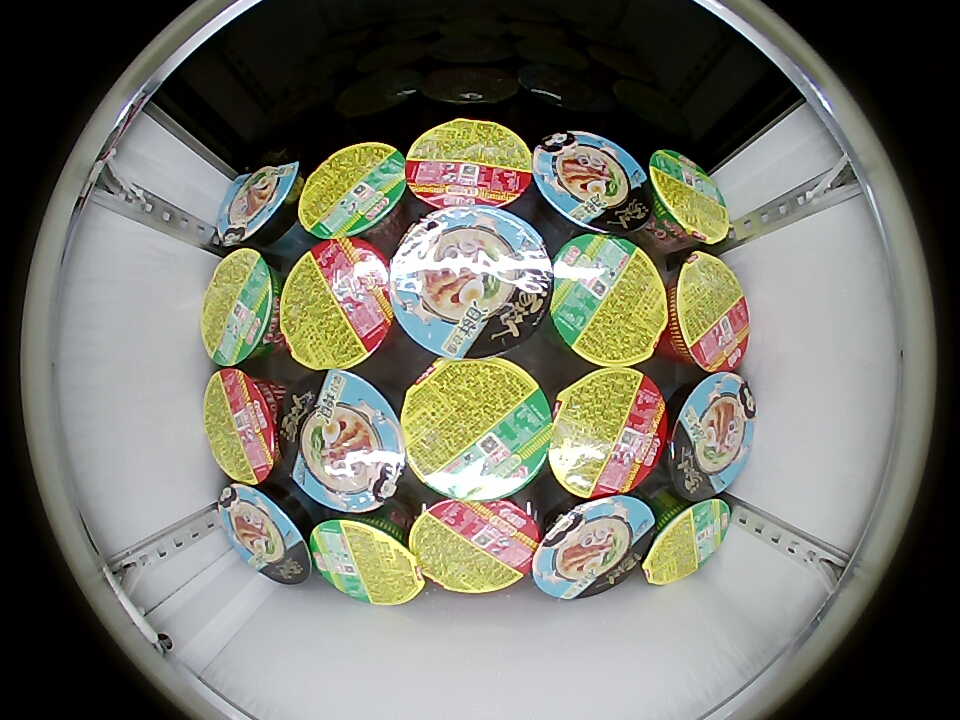heweidao2: (400, 356, 553, 500), (548, 232, 667, 368), (309, 511, 426, 606), (299, 142, 409, 239), (201, 248, 283, 367), (645, 148, 730, 249), (640, 496, 732, 585)
heweidao3: (548, 366, 667, 499), (279, 237, 397, 371), (409, 497, 540, 594), (405, 118, 533, 211), (664, 249, 750, 373), (203, 368, 286, 485)
tangdaren3: (390, 207, 554, 360), (283, 370, 404, 513), (532, 495, 655, 600), (532, 130, 648, 234), (668, 372, 757, 501), (218, 482, 312, 586), (216, 148, 304, 249)
